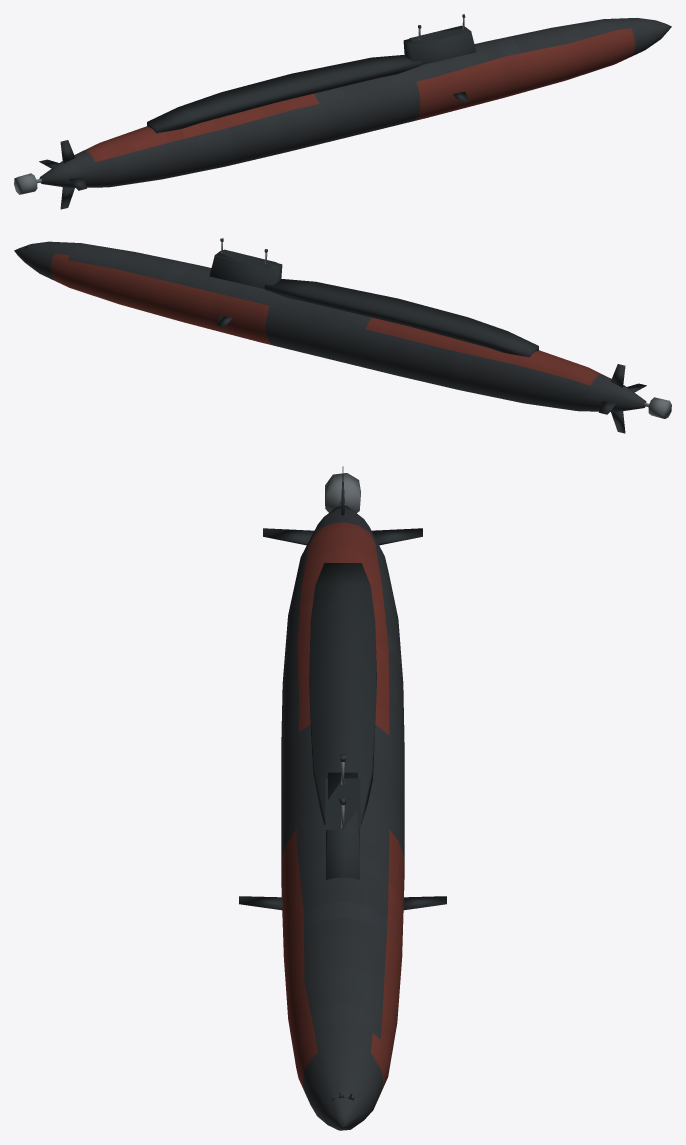
Rendered from IN_SSBN_S4_LOD3.fbx.
3 renders of one model, top to bottom at view 1: azimuth 30°, elevation 25°; view 2: azimuth 150°, elevation 25°; view 3: azimuth 270°, elevation 25°, orthographic. The views are drawn at different scales.
Parts seen in each view (by area): view 1: IN_SSBN_S4_LOD3; view 2: IN_SSBN_S4_LOD3; view 3: IN_SSBN_S4_LOD3.
Part boxes in pixels (x1,y1,x2,y2): IN_SSBN_S4_LOD3: (14, 14, 671, 209); IN_SSBN_S4_LOD3: (14, 238, 671, 433); IN_SSBN_S4_LOD3: (239, 466, 446, 1130).
Bounding box in the file's own units: 135 × 18.59 × 19.
Materials: 6 (1 with a texture image).
